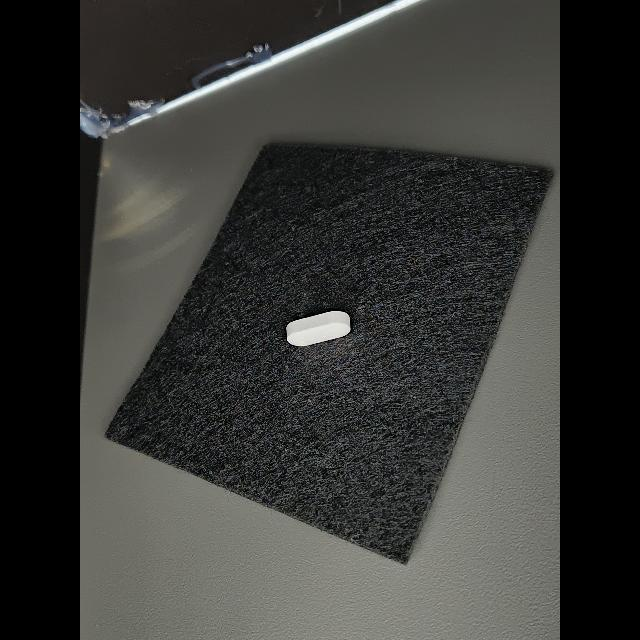Intact Pill: (286, 311, 350, 346)
